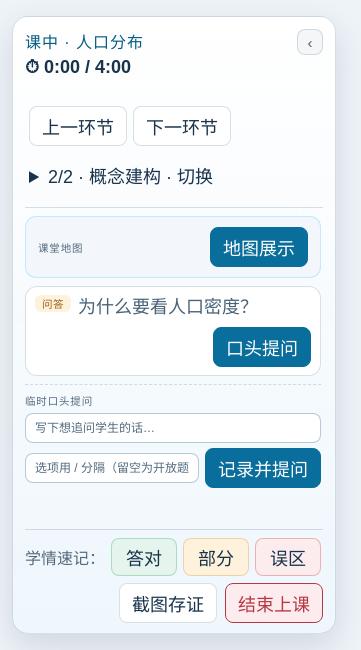
ClassRunPanel › toggles the oral-question read-aloud prompt card and primes the recorder
The image size is (361, 650).
What coordinates should you click on to do the following:
click the button with test id "oral-toggle-s2q1"
I would click on:
 (262, 347)
Its box is [213, 327, 311, 367].
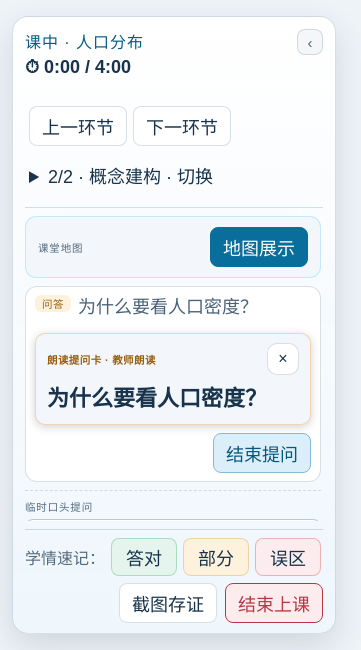
Check: the element with test id "oral-prompt-s2q1" shows "朗读提问卡", box [47, 354, 156, 366]
Check: the element with test id "oral-prompt-s2q1" shows "为什么要看人口密度？", box [47, 386, 267, 411]
Note: 朗读提问卡预置学情速记到 s2q1
What coordinates should you click on to do the following:
click the button "答对"
I would click on:
 (144, 557)
Its box is [111, 538, 177, 576].
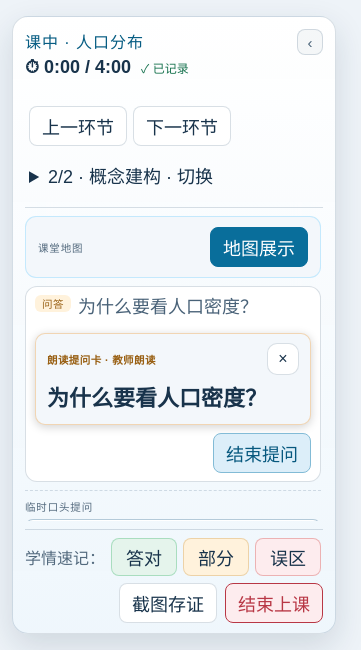
Note: 再次点击收起卡片
What coordinates should you click on to do the following:
click the button with test id "oral-toggle-s2q1"
I would click on:
 (262, 453)
Its box is [213, 433, 311, 473].
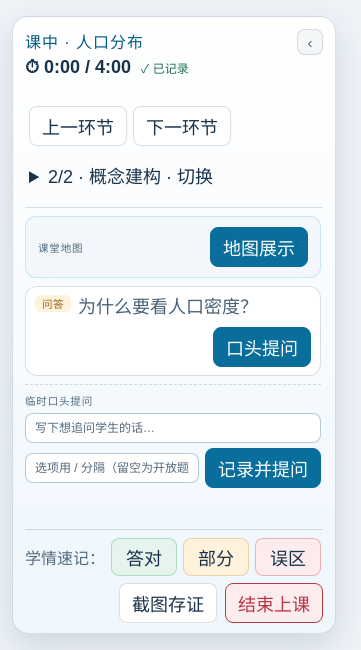
Check: the element with test id "oral-prompt-s2q1" is gone
